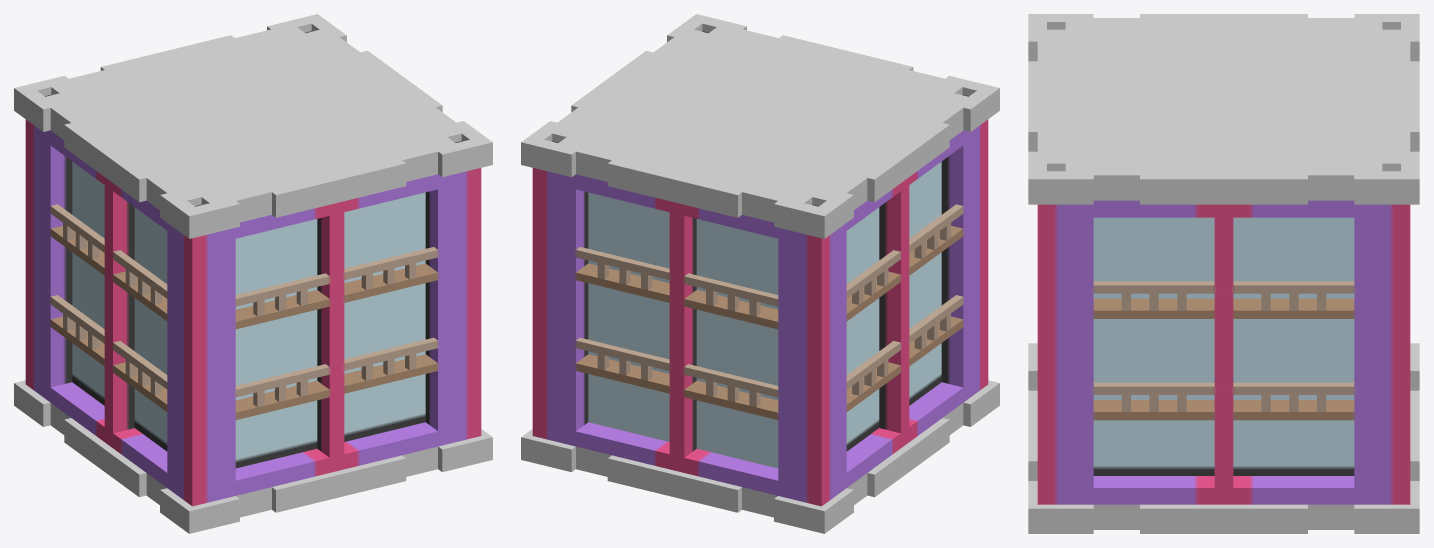
File: Tower_13.fbx
3 renders of one model, left to right at view 1: azimuth 30°, elevation 25°; view 2: azimuth 150°, elevation 25°; view 3: azimuth 270°, elevation 25°, orthographic. The views are drawn at different scales.
Visible parts, largest first — view 1: Box; view 2: Box; view 3: Box.
Part boxes in pixels (bbox=[...]): Box: bbox=[14, 14, 492, 533]; Box: bbox=[521, 14, 999, 533]; Box: bbox=[1028, 14, 1419, 533].
Size of the model in its own units: 42 by 42 by 42.
Materials: 1 (1 with a texture image).
